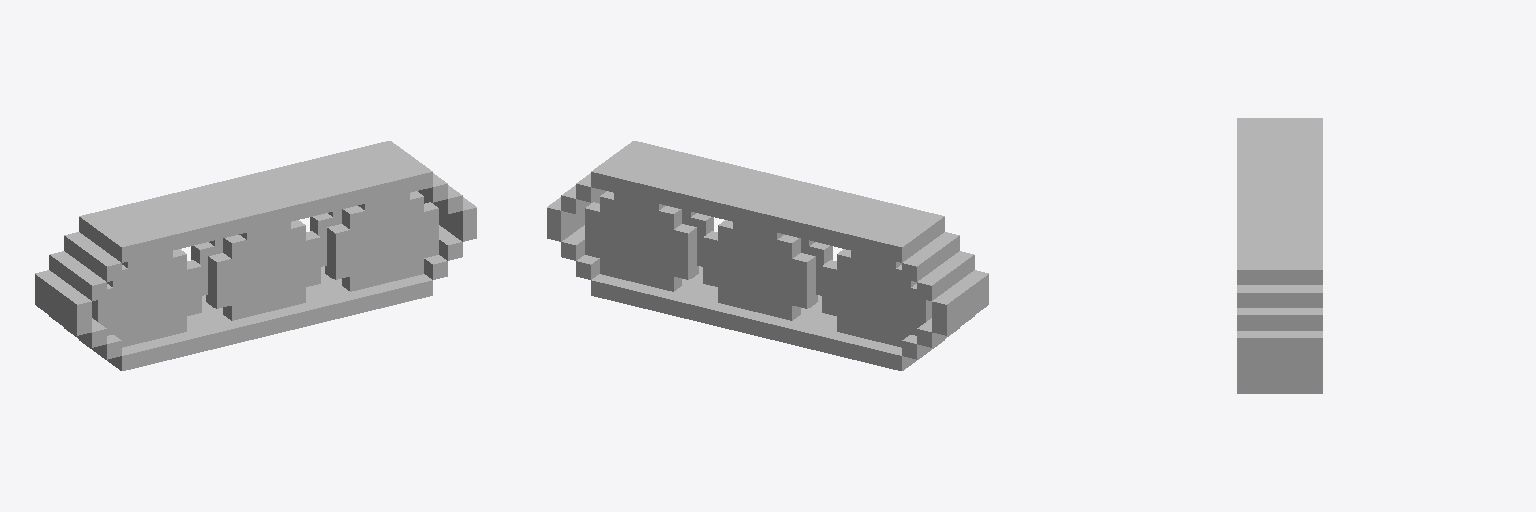
Rendered from Catipillar Track.obj.
The picture shows the model from 3 angles: view 1: azimuth 30°, elevation 25°; view 2: azimuth 150°, elevation 25°; view 3: azimuth 270°, elevation 25°; orthographic projection.
Size of the model in its own units: 27 by 8 by 5.